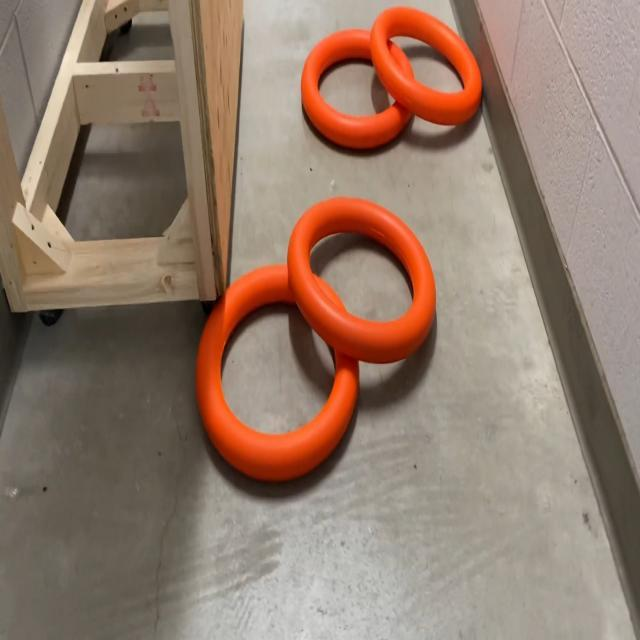note: (193, 261, 360, 481), (287, 194, 437, 364), (300, 27, 415, 151), (369, 5, 482, 128)
